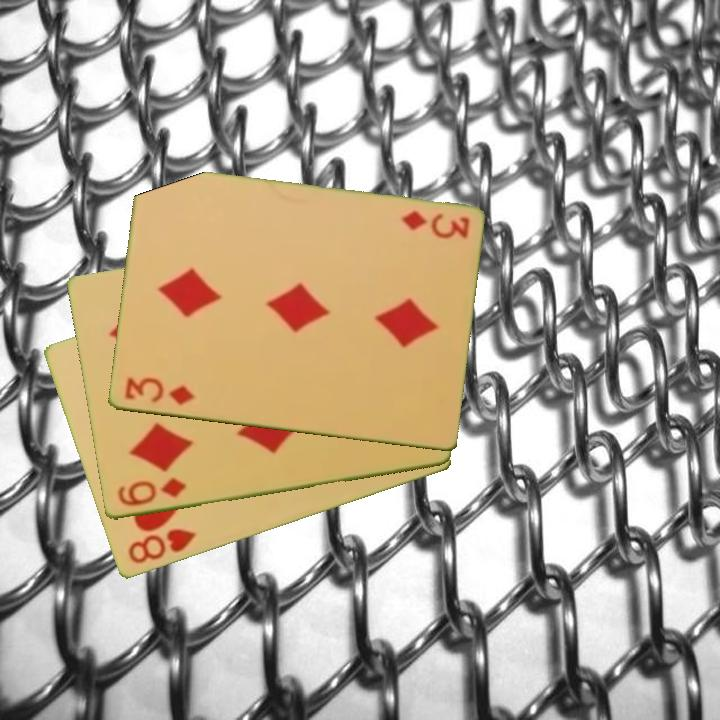3d: (121, 374, 198, 409), (397, 208, 472, 242)
6d: (113, 474, 189, 510)
8h: (124, 525, 199, 567)
